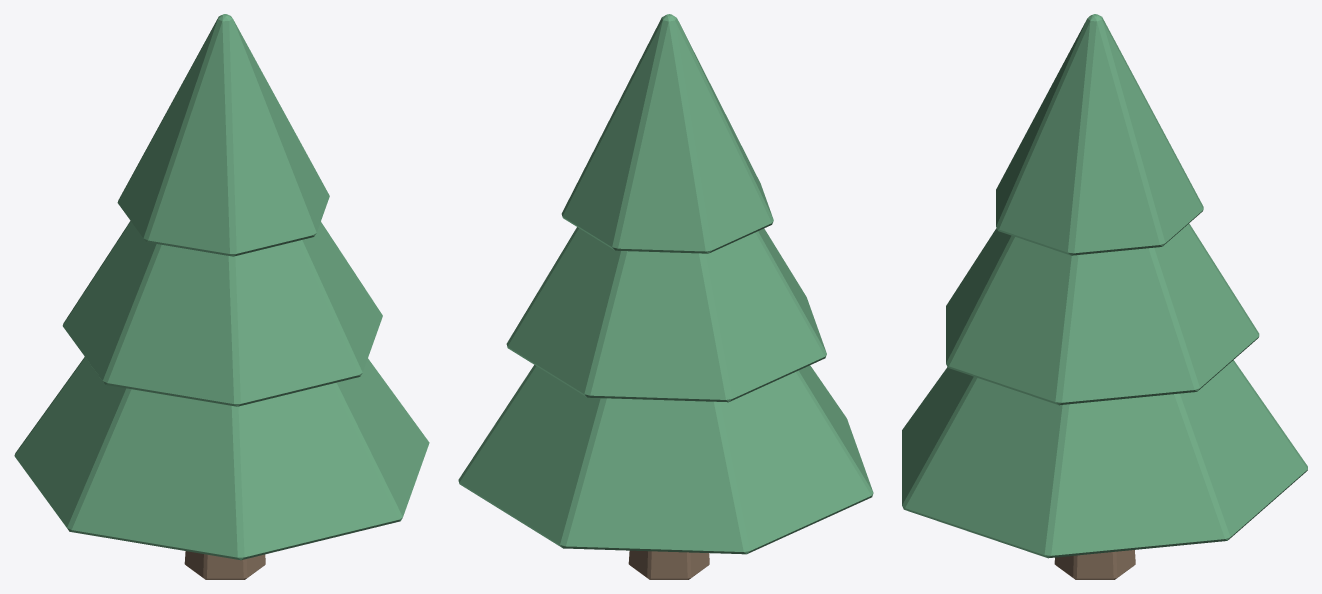
The model's file is pine_large.glb.
3 views of the same model, side by side, from view 1: azimuth 30°, elevation 25°; view 2: azimuth 150°, elevation 25°; view 3: azimuth 270°, elevation 25° (orthographic).
Visible parts, largest first — view 1: Foliage1, Foliage2, Foliage3, Trunk; view 2: Foliage1, Foliage2, Foliage3, Trunk; view 3: Foliage1, Foliage2, Foliage3, Trunk.
Boxes of the visible parts, x1,y1,x2,y2 form: Foliage1: (14,357,429,560); Foliage2: (62,221,382,406); Foliage3: (117,14,329,256); Trunk: (184,551,265,579); Foliage1: (458,365,873,554); Foliage2: (506,227,826,402); Foliage3: (561,14,773,253); Trunk: (628,550,709,579); Foliage1: (902,360,1307,558); Foliage2: (946,223,1259,405); Foliage3: (996,14,1203,255); Trunk: (1054,550,1135,579).
Size of the model in its own units: 1.69 by 2.47 by 1.65.
